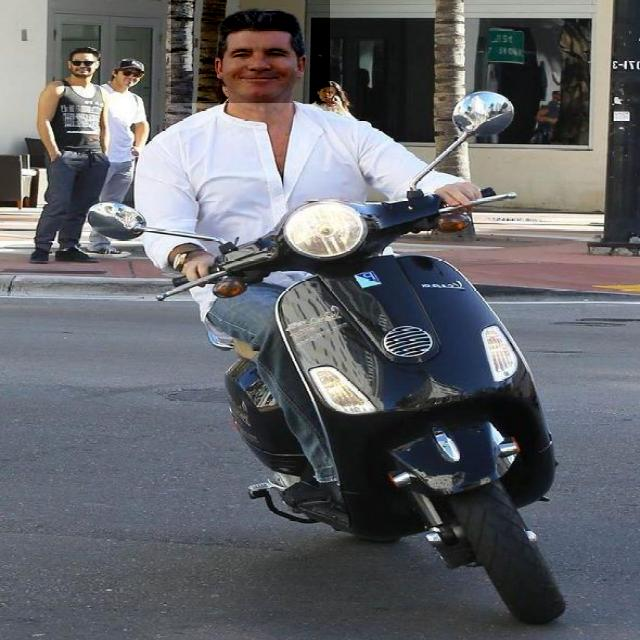No_Helmet: (171, 0, 330, 103)
